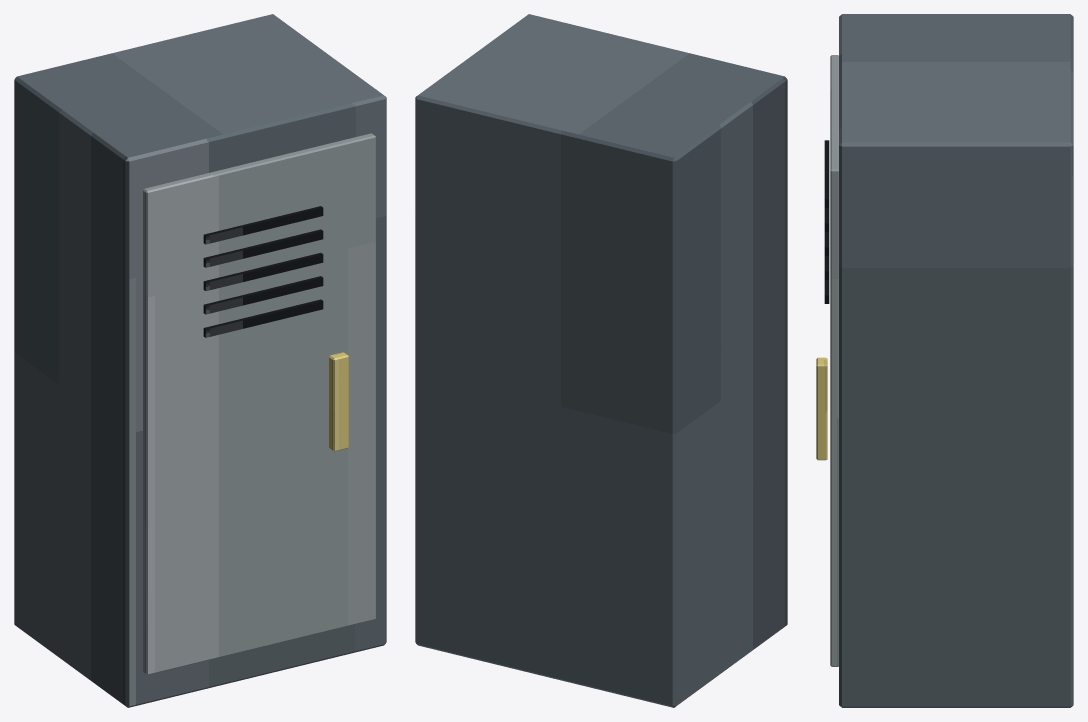
File: maintenance_tool_cabinet.glb
The picture shows the model from 3 angles, left to right: view 1: azimuth 30°, elevation 25°; view 2: azimuth 150°, elevation 25°; view 3: azimuth 270°, elevation 25°; orthographic projection. The views are drawn at different scales.
Parts seen in each view (by area): view 1: CabinetBody, FrontDoor, Handle, Vent_2, Vent_1, Vent_4, Vent_0, Vent_3; view 2: CabinetBody; view 3: CabinetBody, FrontDoor, Handle.
Boxes of the visible parts, bbox=[...] form: CabinetBody: bbox=[14, 14, 386, 707]; FrontDoor: bbox=[143, 133, 375, 674]; Handle: bbox=[329, 352, 348, 451]; Vent_2: bbox=[203, 253, 323, 290]; Vent_1: bbox=[203, 229, 323, 267]; Vent_4: bbox=[203, 299, 323, 337]; Vent_0: bbox=[203, 206, 323, 244]; Vent_3: bbox=[203, 276, 323, 314]; CabinetBody: bbox=[415, 14, 787, 707]; CabinetBody: bbox=[839, 14, 1073, 707]; FrontDoor: bbox=[830, 55, 838, 666]; Handle: bbox=[816, 357, 827, 460].
Size of the model in its own units: 0.82 by 1.65 by 0.68.
Materials: 1 (1 with a texture image).
